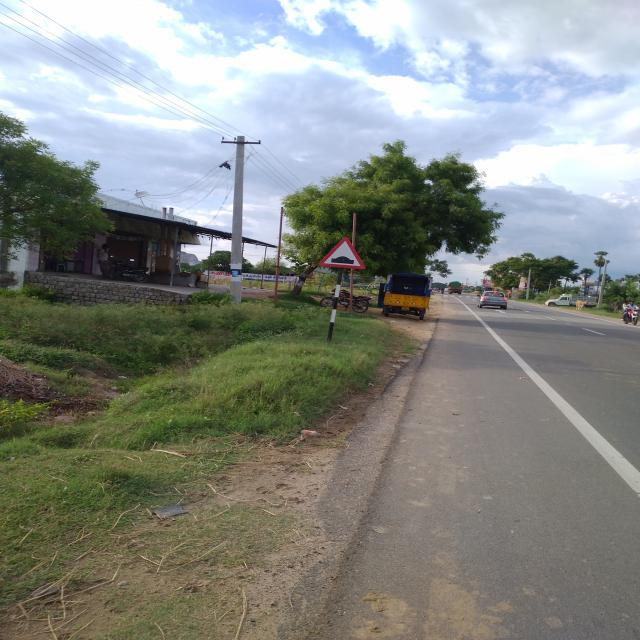hump or rough road: (317, 235, 367, 271)
